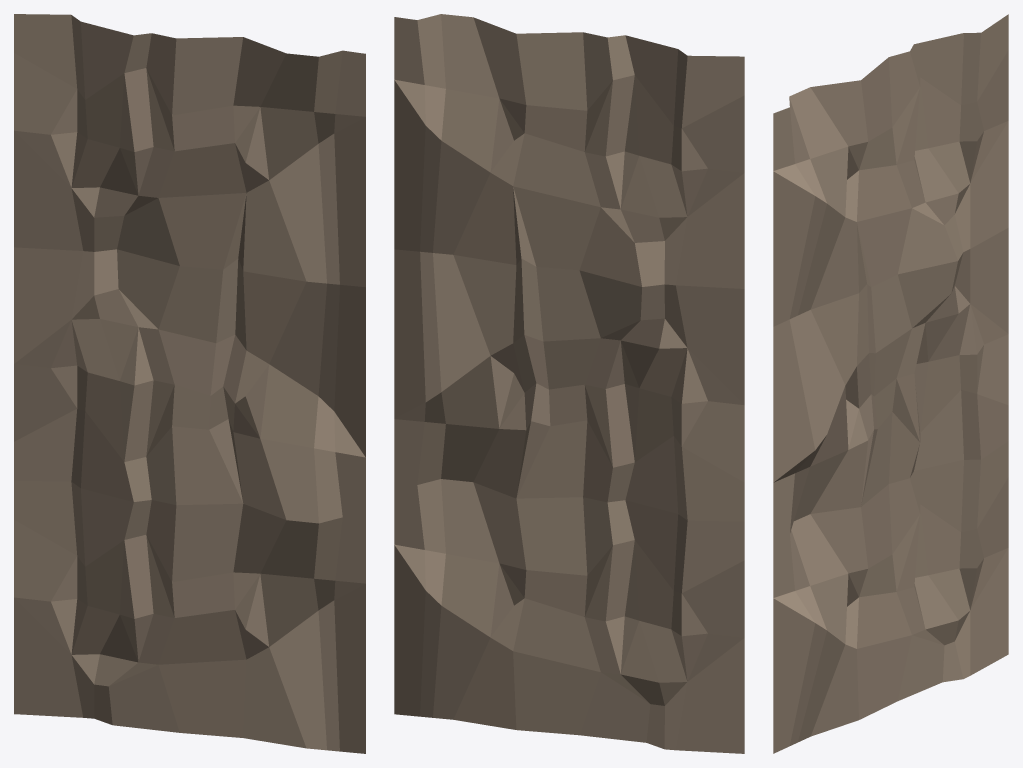
File: ER_Terrain_3x1_Dirt_Diagonal_001_A.fbx
The picture shows the model from 3 angles, left to right: view 1: azimuth 30°, elevation 25°; view 2: azimuth 210°, elevation 25°; view 3: azimuth 270°, elevation 25°; orthographic projection. The views are drawn at different scales.
Parts seen in each view (by area): view 1: ER_Terrain_3x1_Dirt_Diagonal_001_A; view 2: ER_Terrain_3x1_Dirt_Diagonal_001_A; view 3: ER_Terrain_3x1_Dirt_Diagonal_001_A.
Boxes of the visible parts, box(x1,y1,x2,y2) form: ER_Terrain_3x1_Dirt_Diagonal_001_A: box(14, 14, 365, 753); ER_Terrain_3x1_Dirt_Diagonal_001_A: box(394, 14, 744, 753); ER_Terrain_3x1_Dirt_Diagonal_001_A: box(773, 14, 1008, 753).
Bounding box in the file's own units: 1 × 3 × 1.
